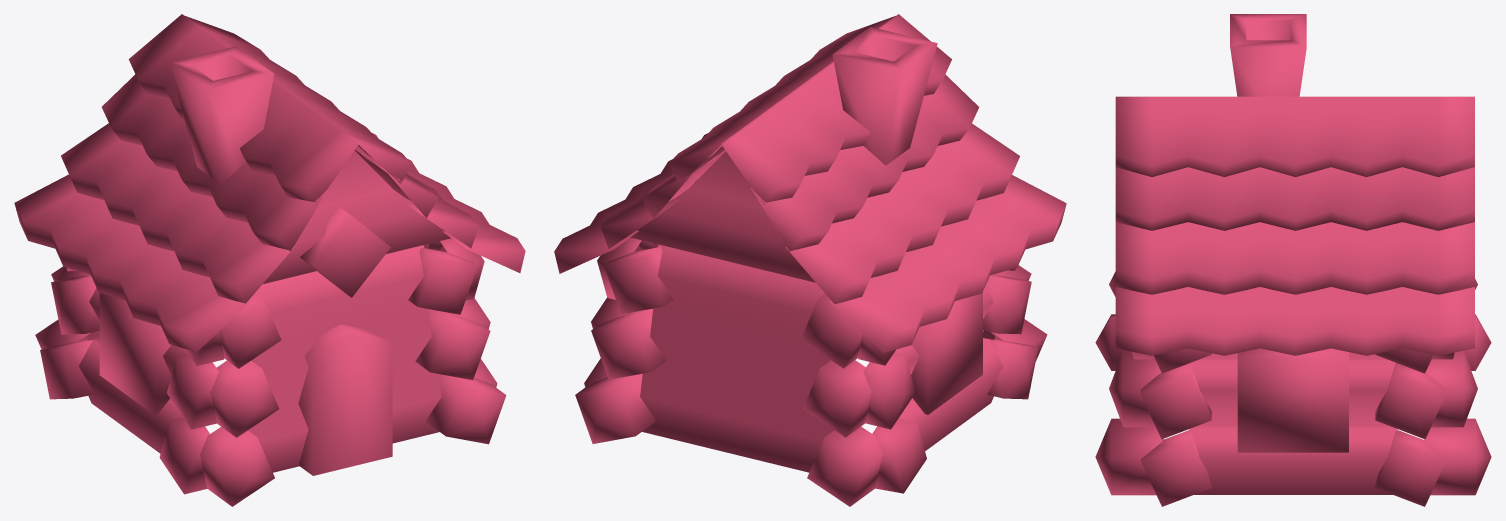
The model's file is SM_Refuge_01_LOD1.fbx.
3 views of the same model, side by side, from view 1: azimuth 30°, elevation 25°; view 2: azimuth 150°, elevation 25°; view 3: azimuth 270°, elevation 25° (orthographic).
Visible parts, largest first — view 1: SM_Refuge_01_LOD1; view 2: SM_Refuge_01_LOD1; view 3: SM_Refuge_01_LOD1.
Boxes of the visible parts, x1,y1,x2,y2 form: SM_Refuge_01_LOD1: (14,14,525,506); SM_Refuge_01_LOD1: (554,14,1066,506); SM_Refuge_01_LOD1: (1095,14,1491,506).
Size of the model in its own units: 582 by 576 by 557.
